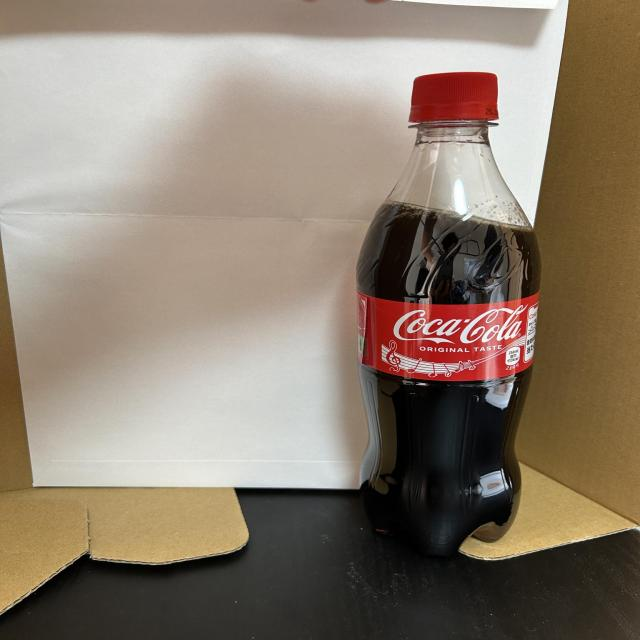high: (357, 72, 541, 556)
